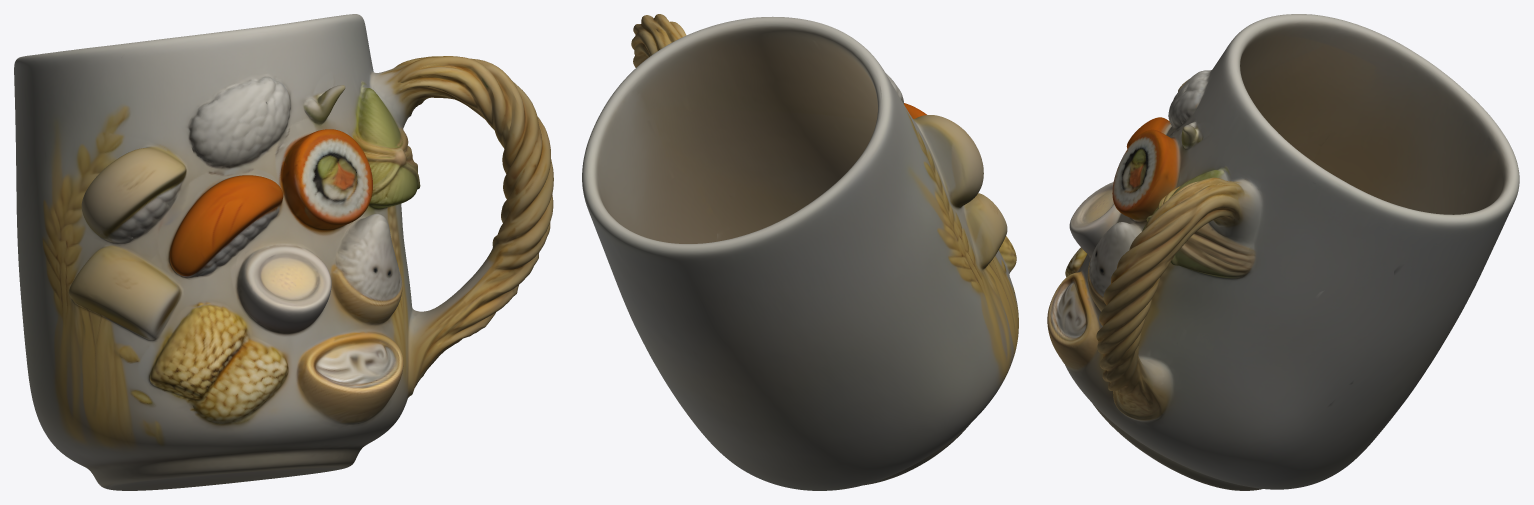
The model's file is rice-cup-creative.glb.
3 views of the same model, side by side, from view 1: azimuth 30°, elevation 25°; view 2: azimuth 150°, elevation 25°; view 3: azimuth 270°, elevation 25° (orthographic). The views are drawn at different scales.
Visible parts, largest first — view 1: node_0; view 2: node_0; view 3: node_0.
Part boxes in pixels (x1,y1,x2,y2): node_0: [14, 14, 553, 490]; node_0: [582, 14, 1018, 490]; node_0: [1047, 14, 1519, 490].
Bounding box in the file's own units: 0.9398 × 0.9625 × 0.9485.
1 material, 1 textured.
